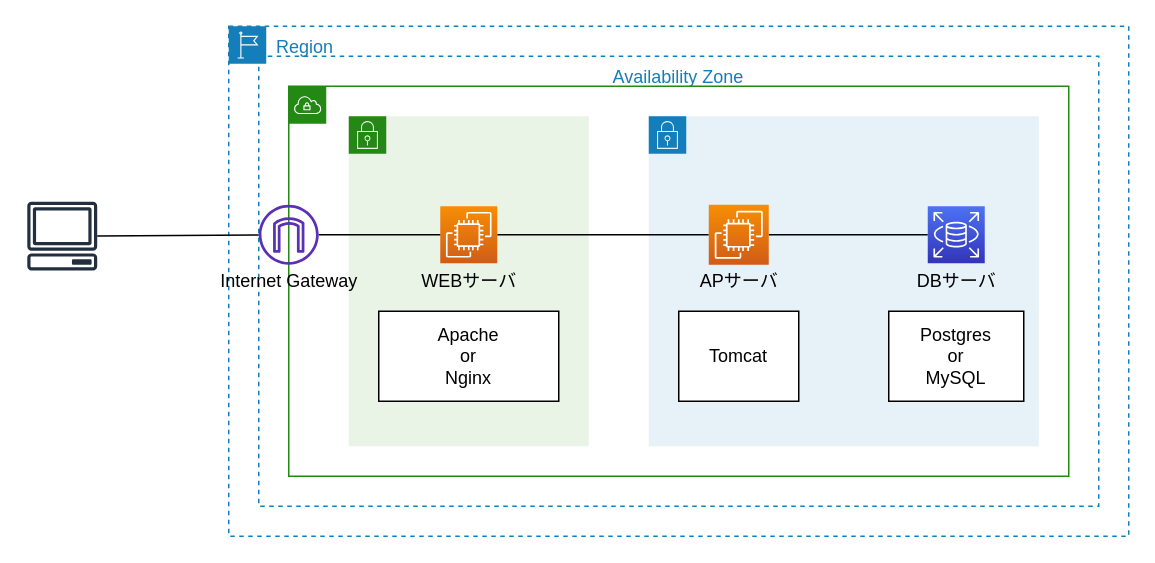
Some shapes in this 1155 by 563 pixel diagram are drawn without their labels. Each missing label, with the box of its shape:
Private subnet: (647, 115, 1039, 446)
Public subnet: (347, 115, 589, 446)
VPC: (287, 85, 1069, 476)
